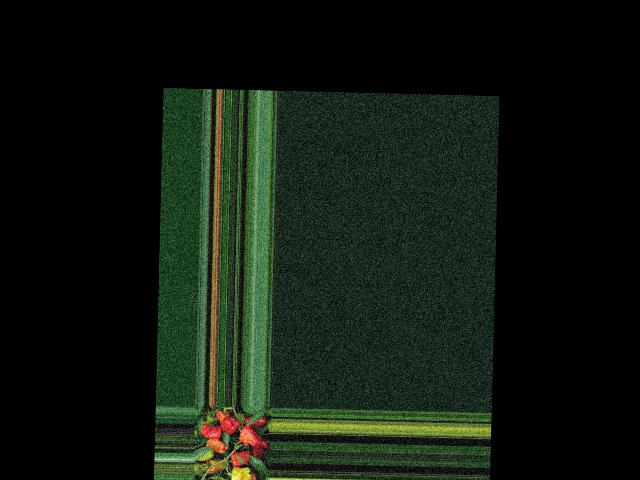bell_pepper: (216, 408, 226, 422)
